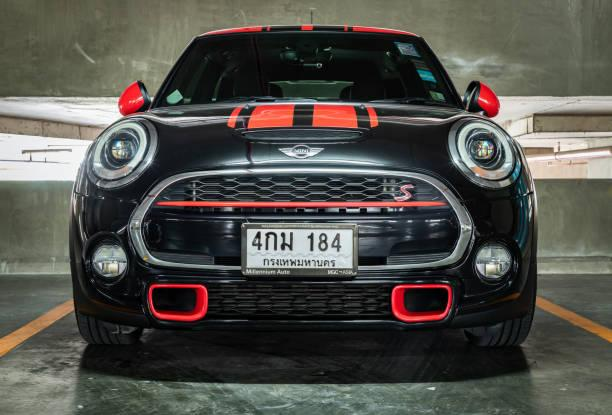mini: (272, 139, 333, 170)
